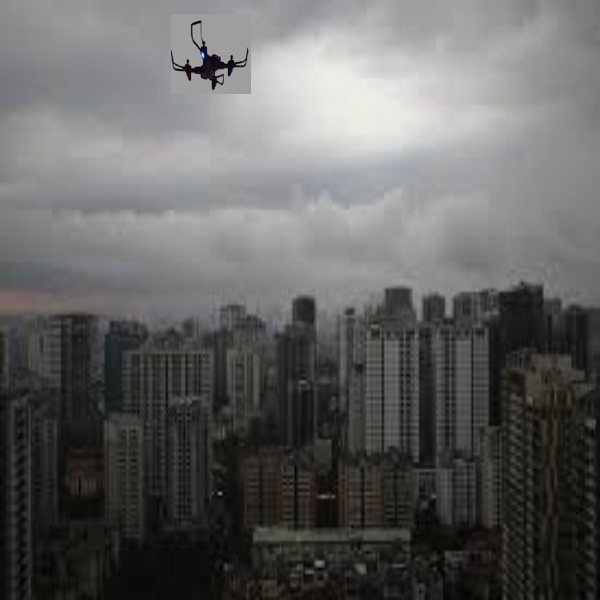drone: (168, 14, 255, 94)
